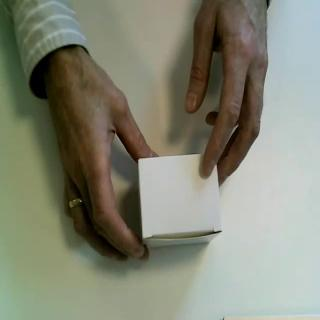apodorm5mg: (138, 152, 224, 250)
